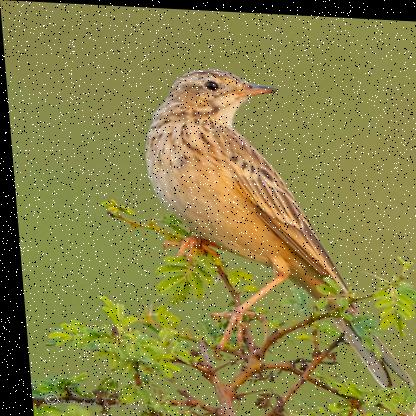Burung: (134, 62, 407, 385)
